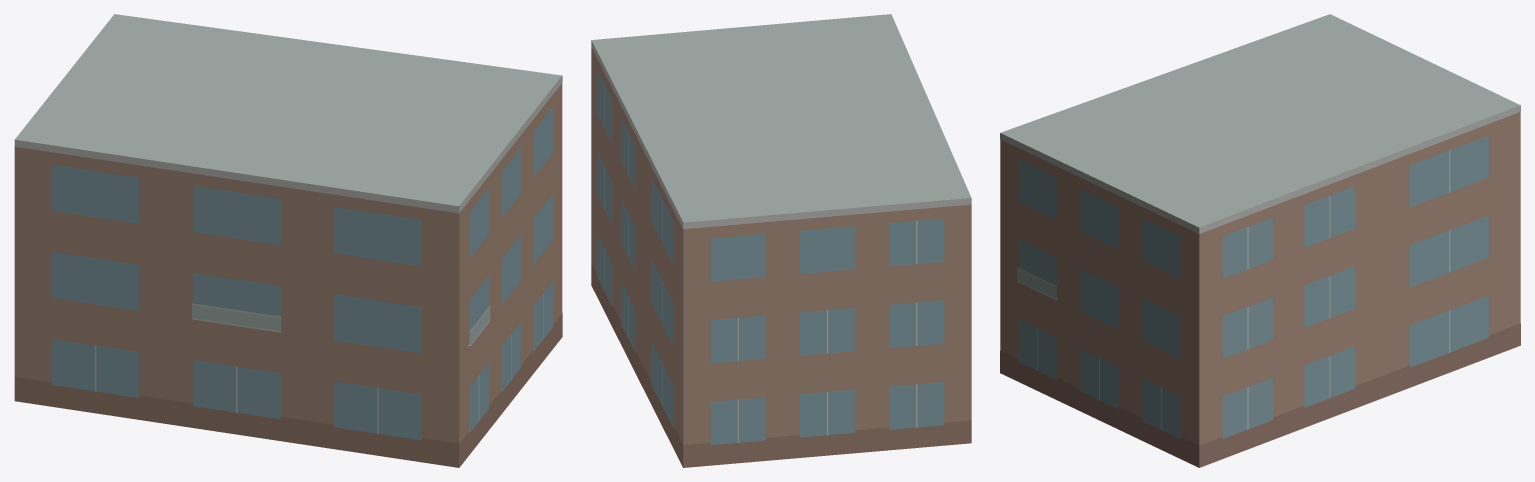
File: survey-upis-32825487.glb
3 views of the same model, side by side, from view 1: azimuth 30°, elevation 25°; view 2: azimuth 150°, elevation 25°; view 3: azimuth 270°, elevation 25° (orthographic). The views are drawn at different scales.
Parts seen in each view (by area): view 1: survey-upis-32825487.tmp; view 2: survey-upis-32825487.tmp; view 3: survey-upis-32825487.tmp.
Part boxes in pixels (x1,y1,x2,y2): survey-upis-32825487.tmp: [14, 14, 562, 467]; survey-upis-32825487.tmp: [591, 14, 971, 467]; survey-upis-32825487.tmp: [1000, 14, 1520, 467].
Bounding box in the file's own units: 17.37 × 9.1 × 17.88.
